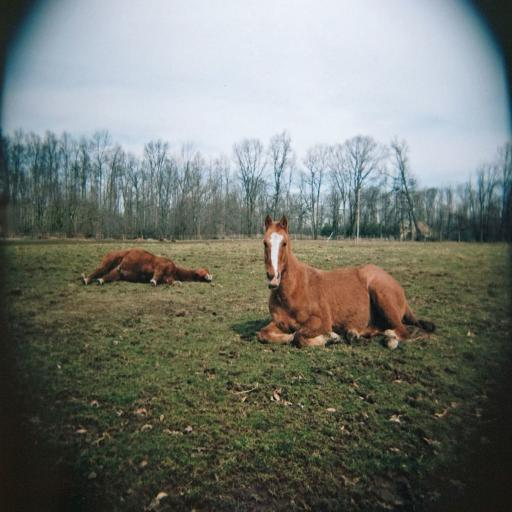Horse: (254, 213, 434, 350), (78, 245, 214, 287)
